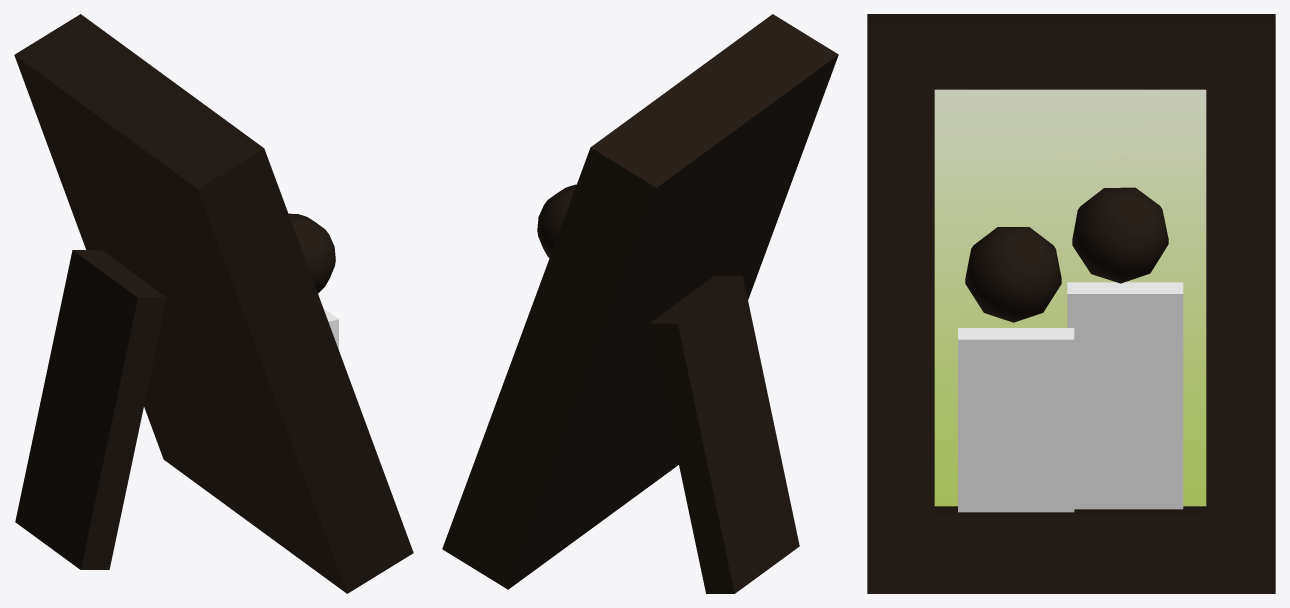
Rendered from Picture.fbx.
3 views of the same model, side by side, from view 1: azimuth 30°, elevation 25°; view 2: azimuth 150°, elevation 25°; view 3: azimuth 270°, elevation 25° (orthographic). The views are drawn at different scales.
Parts seen in each view (by area): view 1: Picture; view 2: Picture; view 3: Picture.
Part boxes in pixels (x1,y1,x2,y2): Picture: [14, 14, 413, 593]; Picture: [442, 14, 838, 593]; Picture: [867, 14, 1275, 593].
Size of the model in its own units: 3.81 by 6.66 by 4.76.
Materials: 1 (1 with a texture image).
